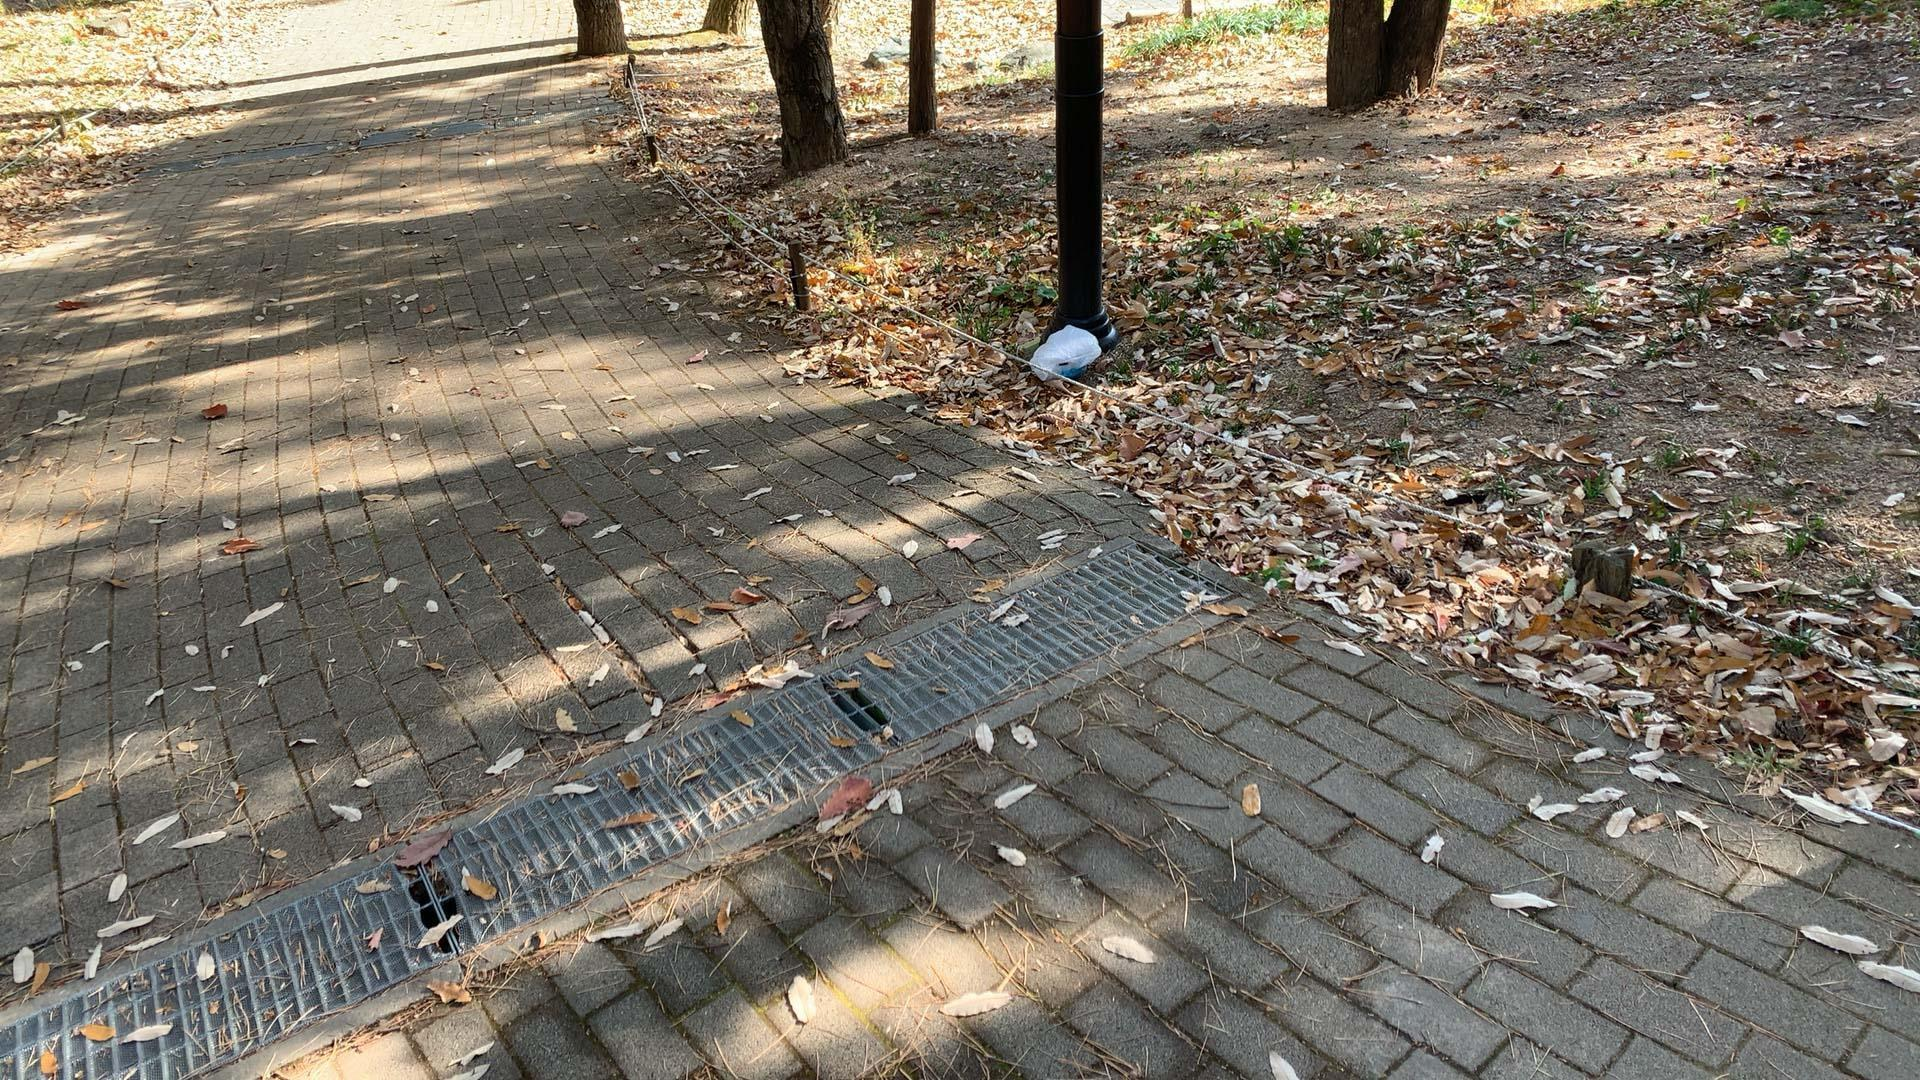white_bag: (1029, 319, 1101, 384)
